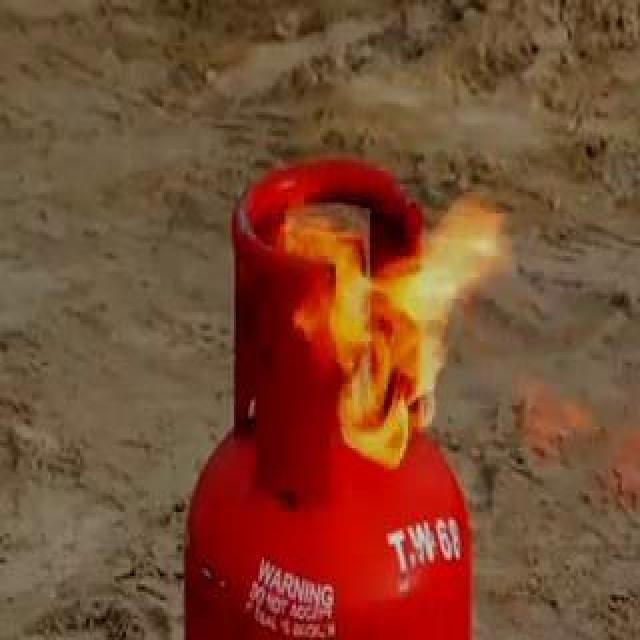Fire: (263, 144, 635, 523)
